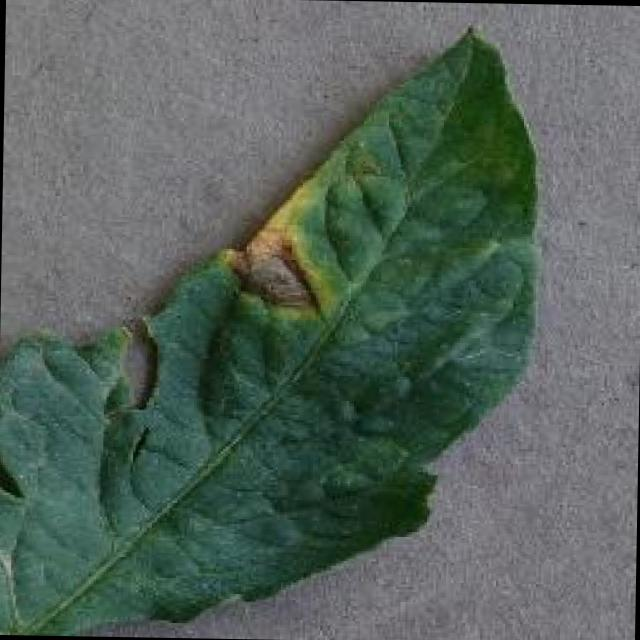Tomato_Early_Blight: (142, 146, 432, 364)
